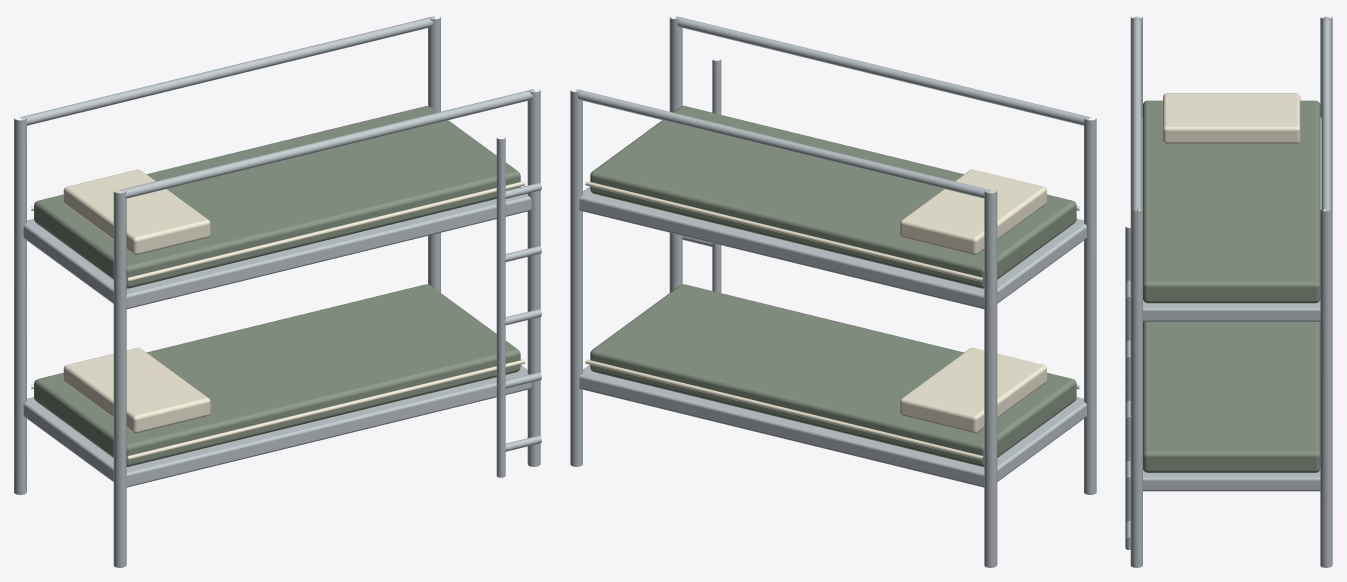
File: abandoned-weather-station-and-storm-shelter-shelter-bu-f7d9a5da__31043.glb
3 views of the same model, side by side, from view 1: azimuth 30°, elevation 25°; view 2: azimuth 150°, elevation 25°; view 3: azimuth 270°, elevation 25° (orthographic). The views are drawn at different scales.
Parts seen in each view (by area): view 1: shelter-bunk; view 2: shelter-bunk; view 3: shelter-bunk.
Part boxes in pixels (box(x1,y1,x2,y2)): shelter-bunk: box(14, 16, 541, 567); shelter-bunk: box(570, 16, 1096, 567); shelter-bunk: box(1125, 16, 1332, 567).
Bounding box in the file's own units: 1.97 × 1.66 × 0.8739.
